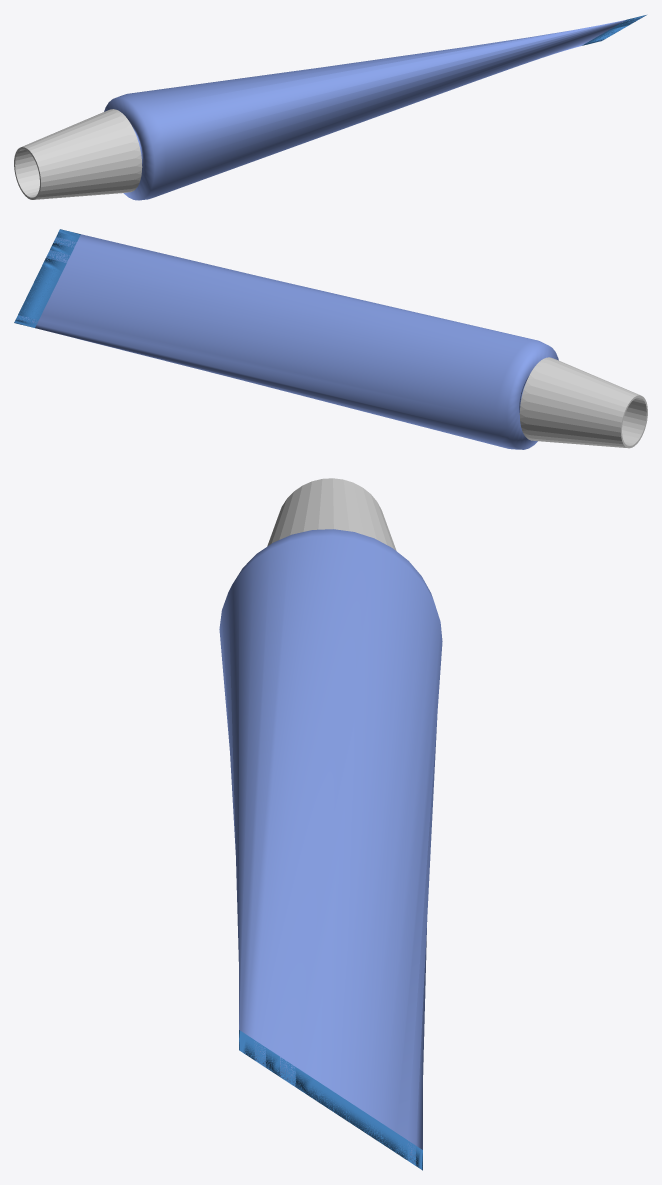
Rendered from BluePaintTube.fbx.
3 renders of one model, top to bottom at view 1: azimuth 30°, elevation 25°; view 2: azimuth 150°, elevation 25°; view 3: azimuth 270°, elevation 25°, orthographic. The views are drawn at different scales.
Parts seen in each view (by area): view 1: Cylinder.025; view 2: Cylinder.025; view 3: Cylinder.025.
Part boxes in pixels (x1,y1,x2,y2): Cylinder.025: [14, 15, 646, 200]; Cylinder.025: [14, 229, 647, 449]; Cylinder.025: [219, 478, 442, 1170].
Size of the model in its own units: 24.31 by 3.86 by 3.93.
